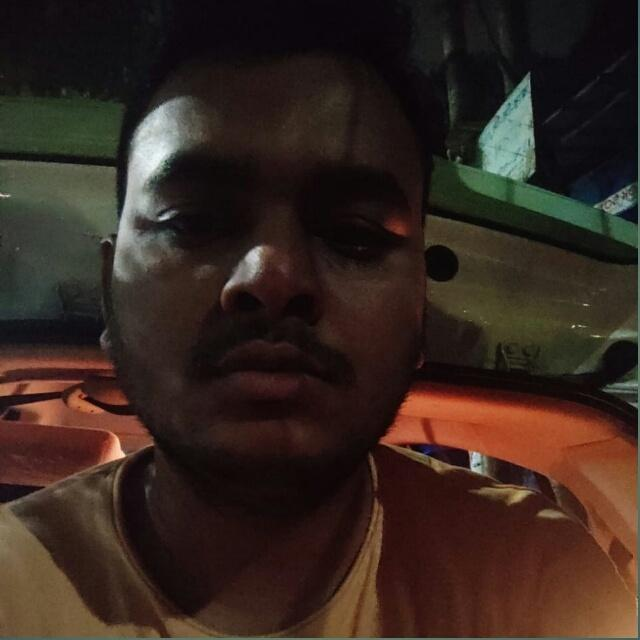Angry: (79, 66, 449, 524)
